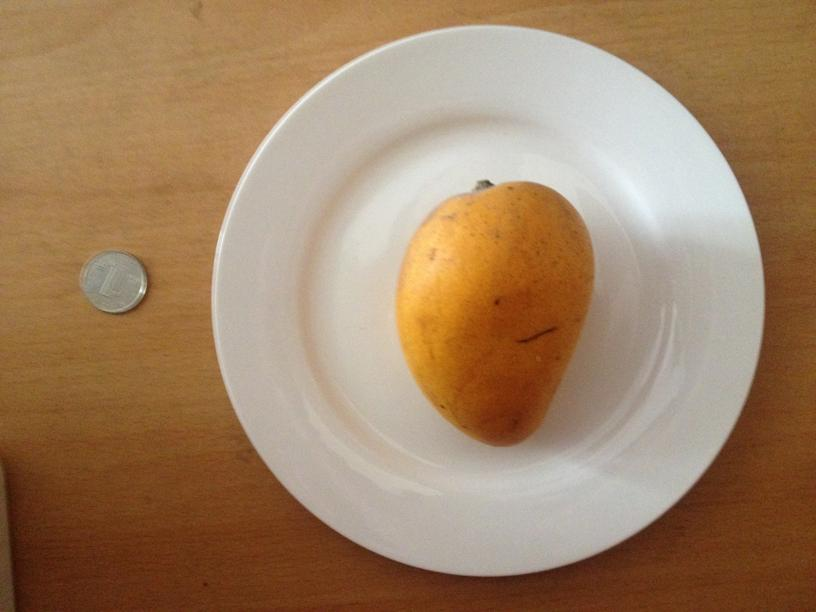coin: (78, 248, 147, 313)
mango: (398, 179, 593, 445)
